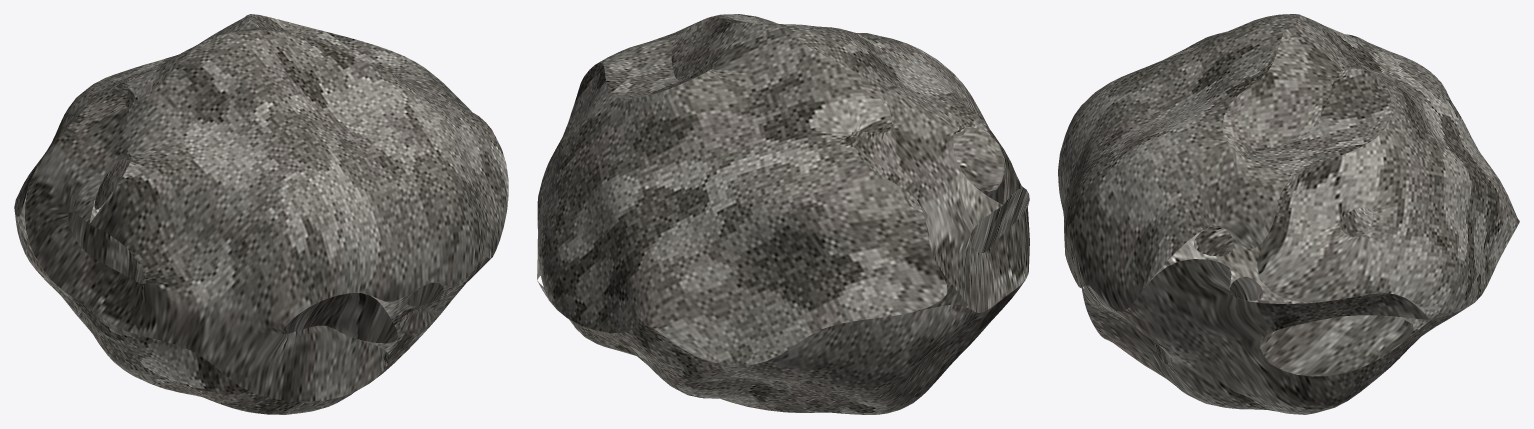
The model's file is rock_smallA.glb.
The picture shows the model from 3 angles, left to right: view 1: azimuth 30°, elevation 25°; view 2: azimuth 150°, elevation 25°; view 3: azimuth 270°, elevation 25°; orthographic projection. The views are drawn at different scales.
Visible parts, largest first — view 1: Icosphere; view 2: Icosphere; view 3: Icosphere.
Part boxes in pixels (bbox=[...]): Icosphere: bbox=[14, 14, 508, 414]; Icosphere: bbox=[537, 14, 1029, 414]; Icosphere: bbox=[1058, 14, 1519, 414].
Bounding box in the file's own units: 1.07 × 0.8775 × 1.06.
1 material, 1 textured.
